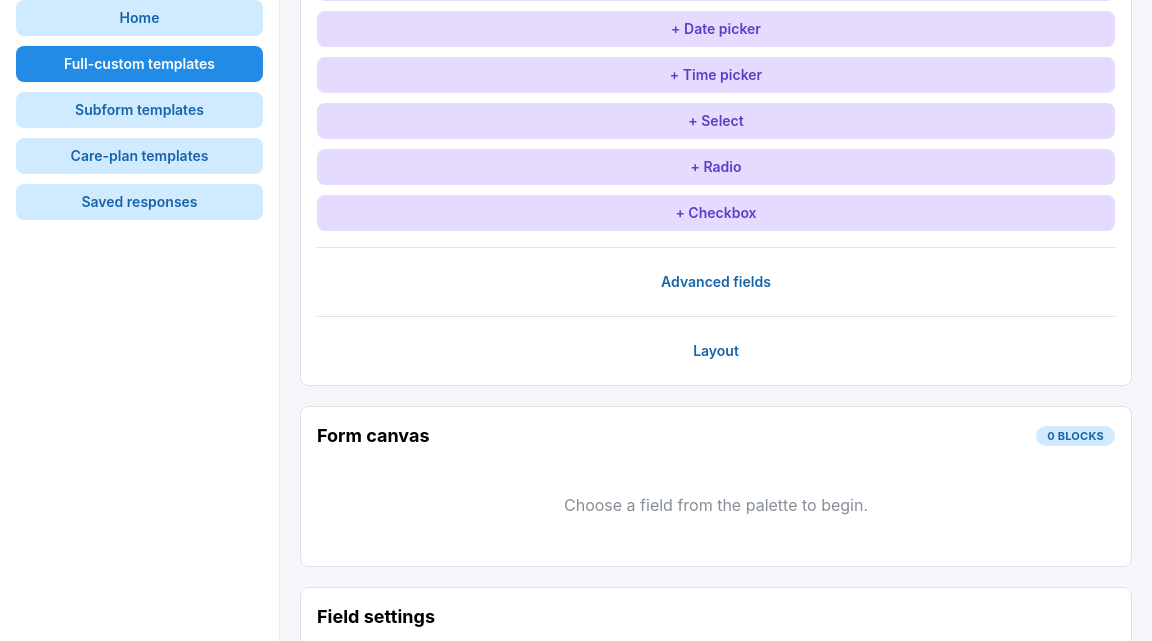
Test case: form builder › adds and configures data-entry fields inside a list input
(page scrolled)
Step 1. Click the button "Advanced fields" → (716, 282), box [317,264,1115,300]
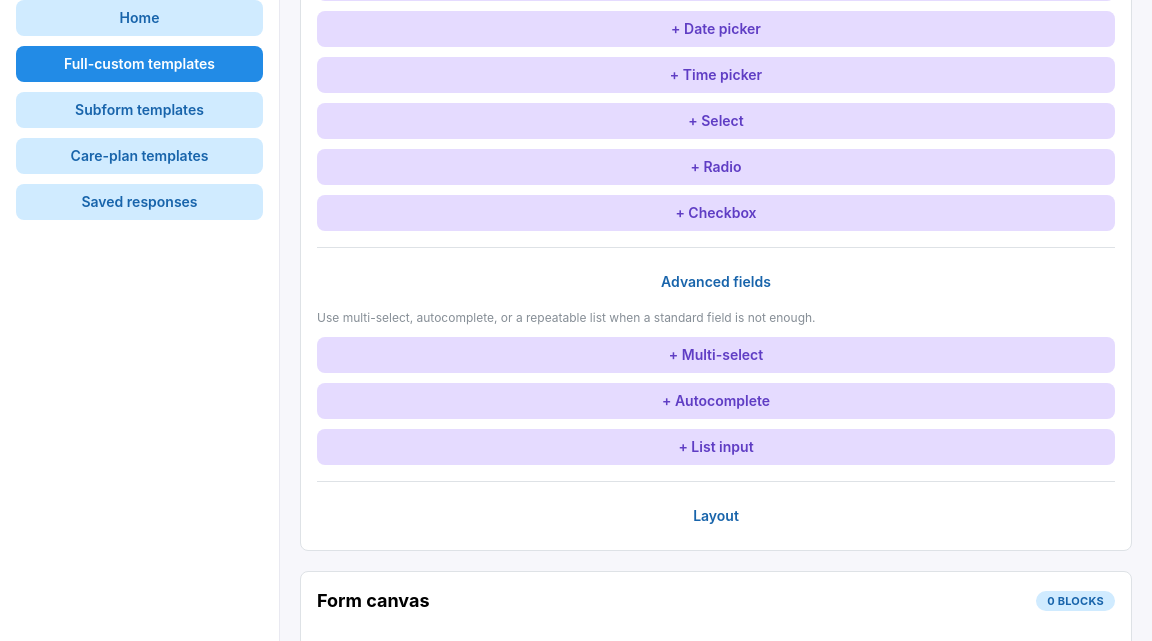
Step 2. Click the button with aria-label "Add list input" → (716, 447), box [317,429,1115,465]
(page scrolled)
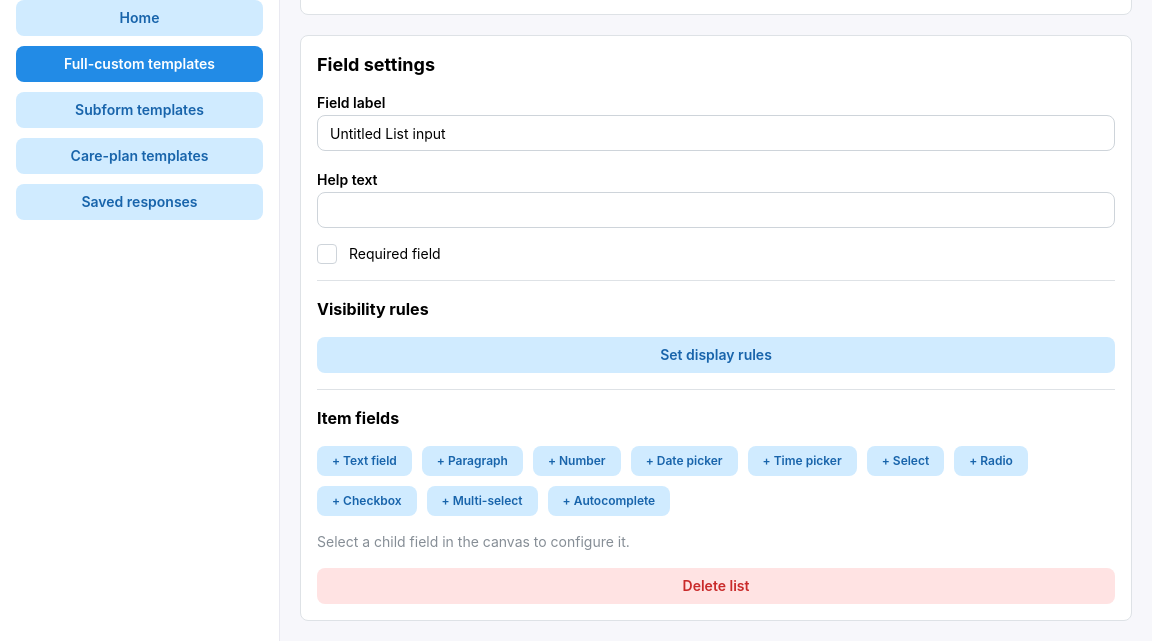
Check: the heading "Item fields" is shown, box [317,408,399,428]
Step 3. Click the button with aria-label "Add date picker field" → (684, 461), box [631,446,738,476]
(page scrolled)
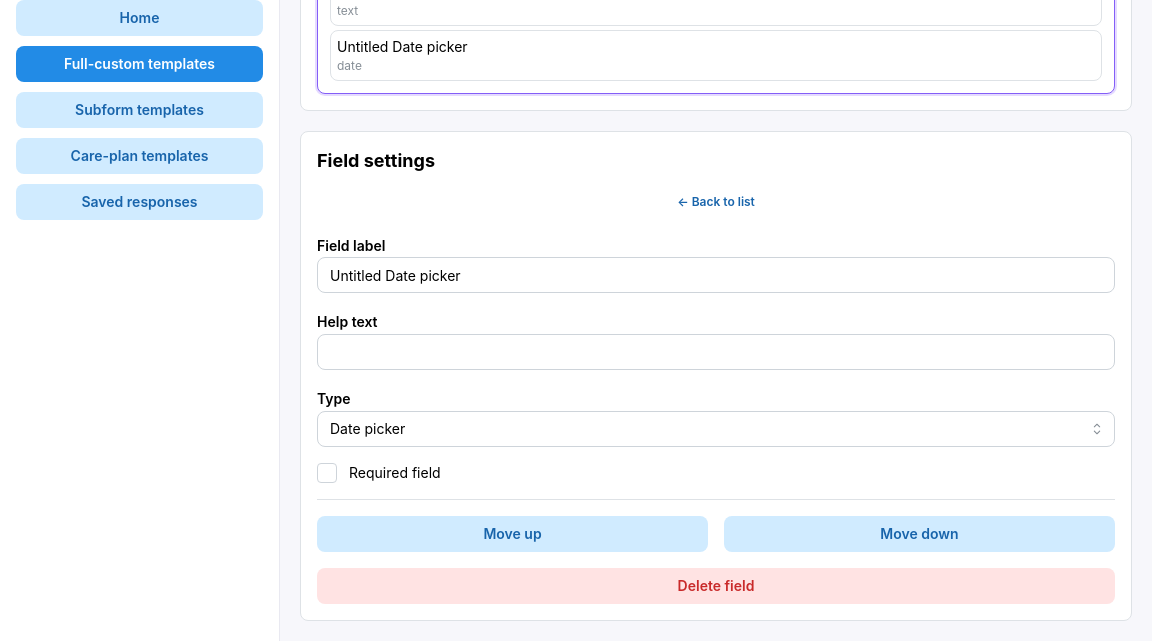
Check: the text "Untitled Date picker" is shown, box [337,38,468,55]
